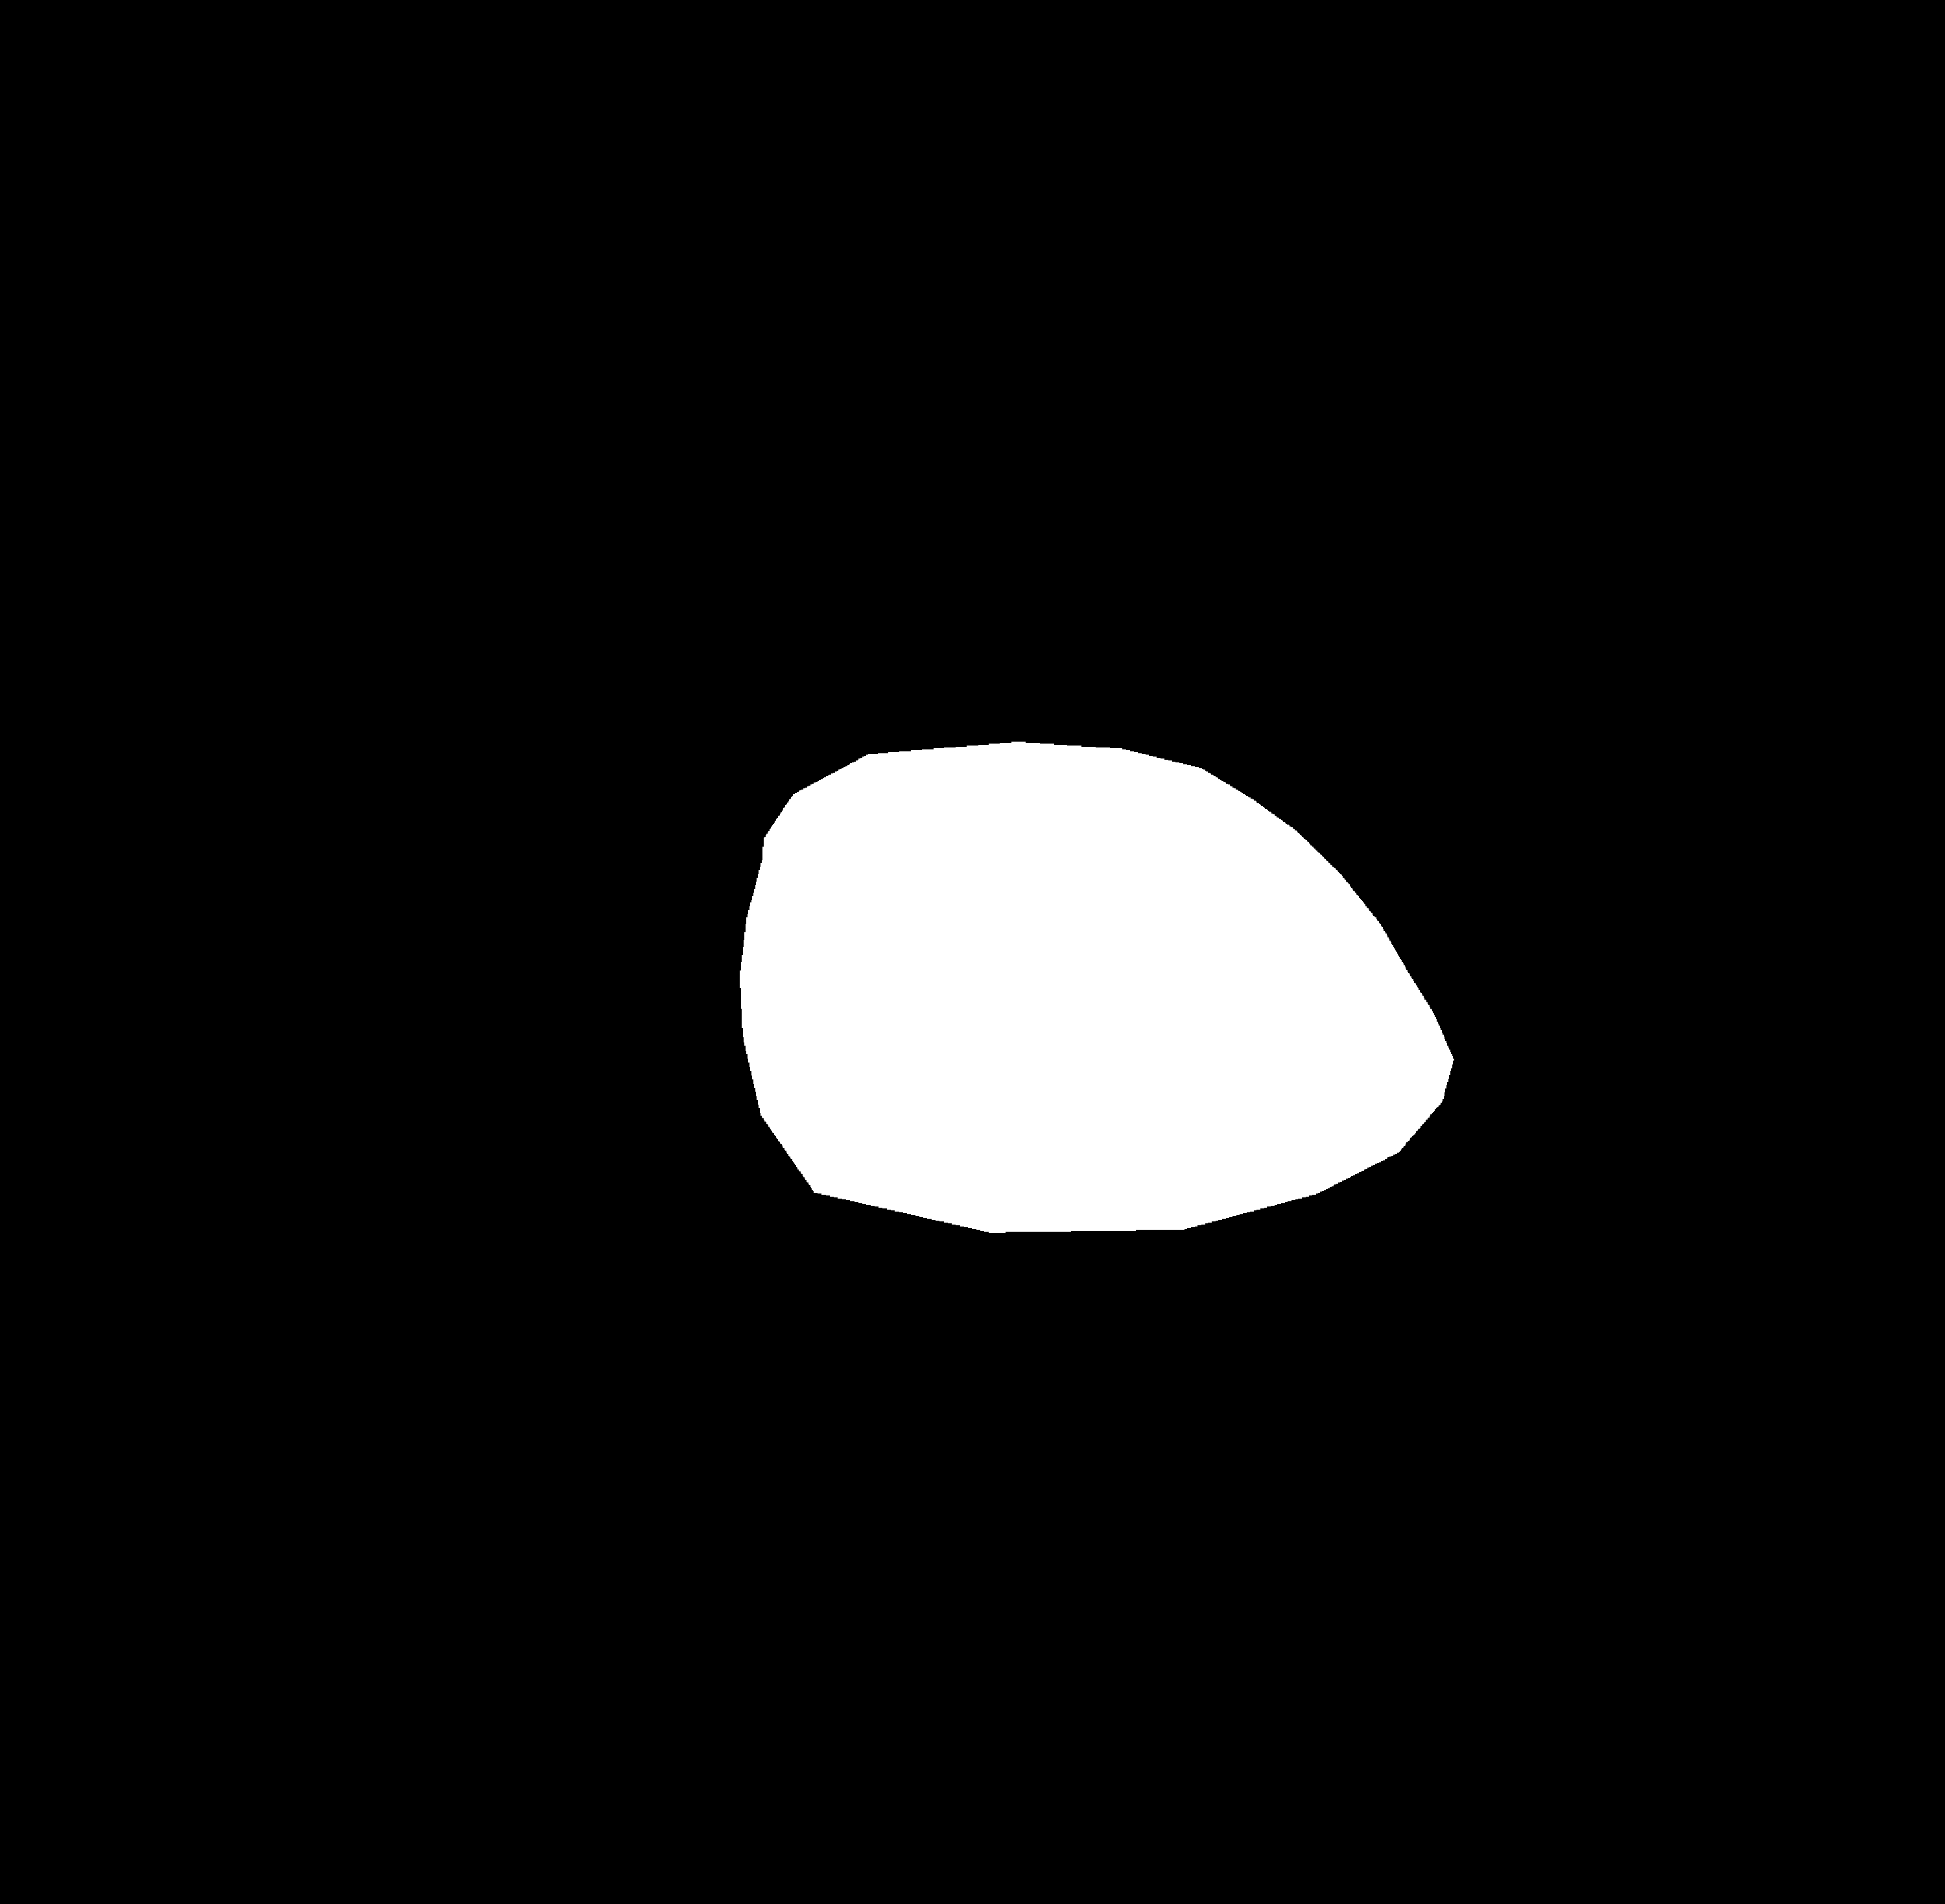heart: (743, 765, 1478, 1201)
left_lung: (255, 296, 877, 1238)
right_lung: (993, 291, 1636, 1212)
